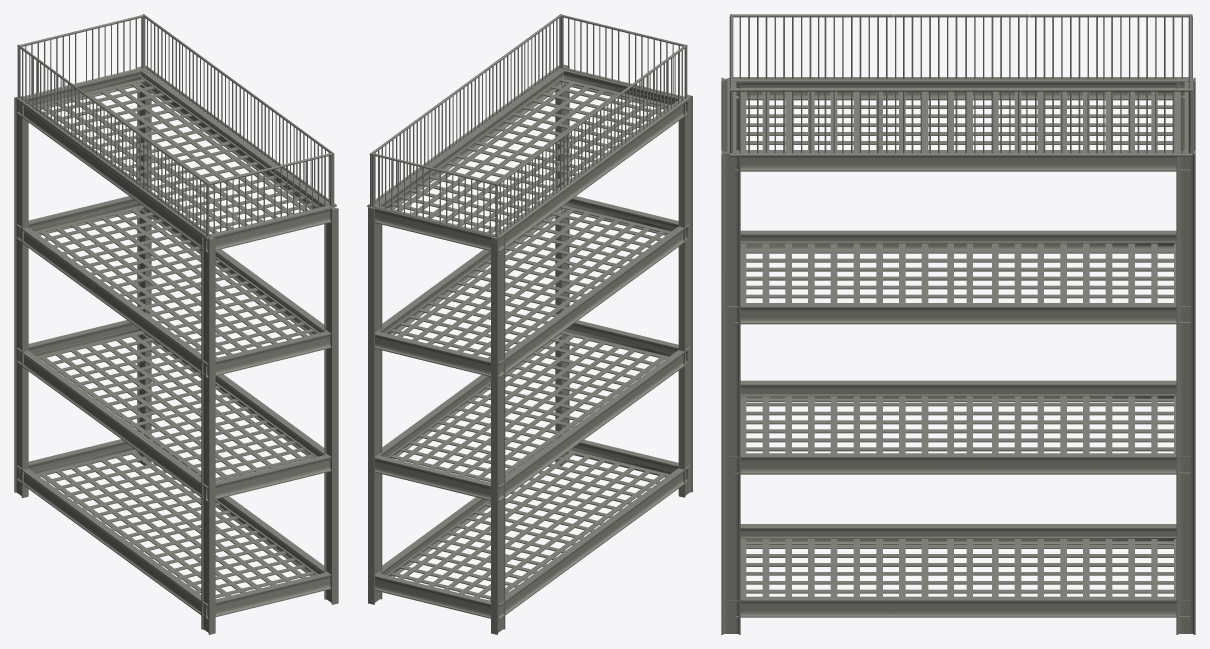
Rendered from metal_towerrack_01.fbx.
3 views of the same model, side by side, from view 1: azimuth 30°, elevation 25°; view 2: azimuth 150°, elevation 25°; view 3: azimuth 270°, elevation 25° (orthographic). The views are drawn at different scales.
Parts seen in each view (by area): view 1: metal_towerrack_01; view 2: metal_towerrack_01; view 3: metal_towerrack_01.
Part boxes in pixels (bbox=[...]): metal_towerrack_01: bbox=[14, 14, 338, 634]; metal_towerrack_01: bbox=[367, 14, 692, 634]; metal_towerrack_01: bbox=[721, 14, 1195, 634].
Size of the model in its own units: 228 by 742 by 585.
